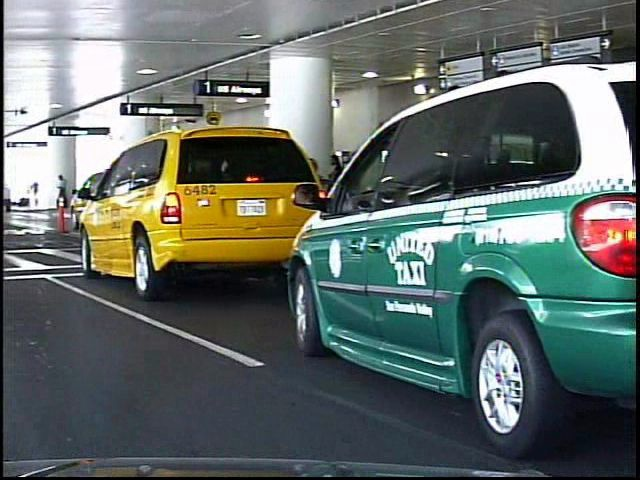person: (52, 174, 65, 197)
